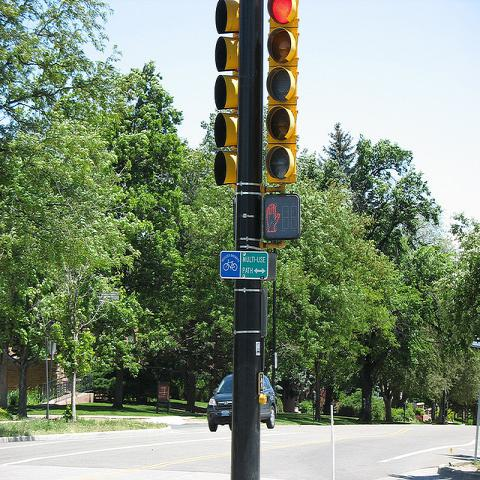car: (206, 373, 277, 435)
